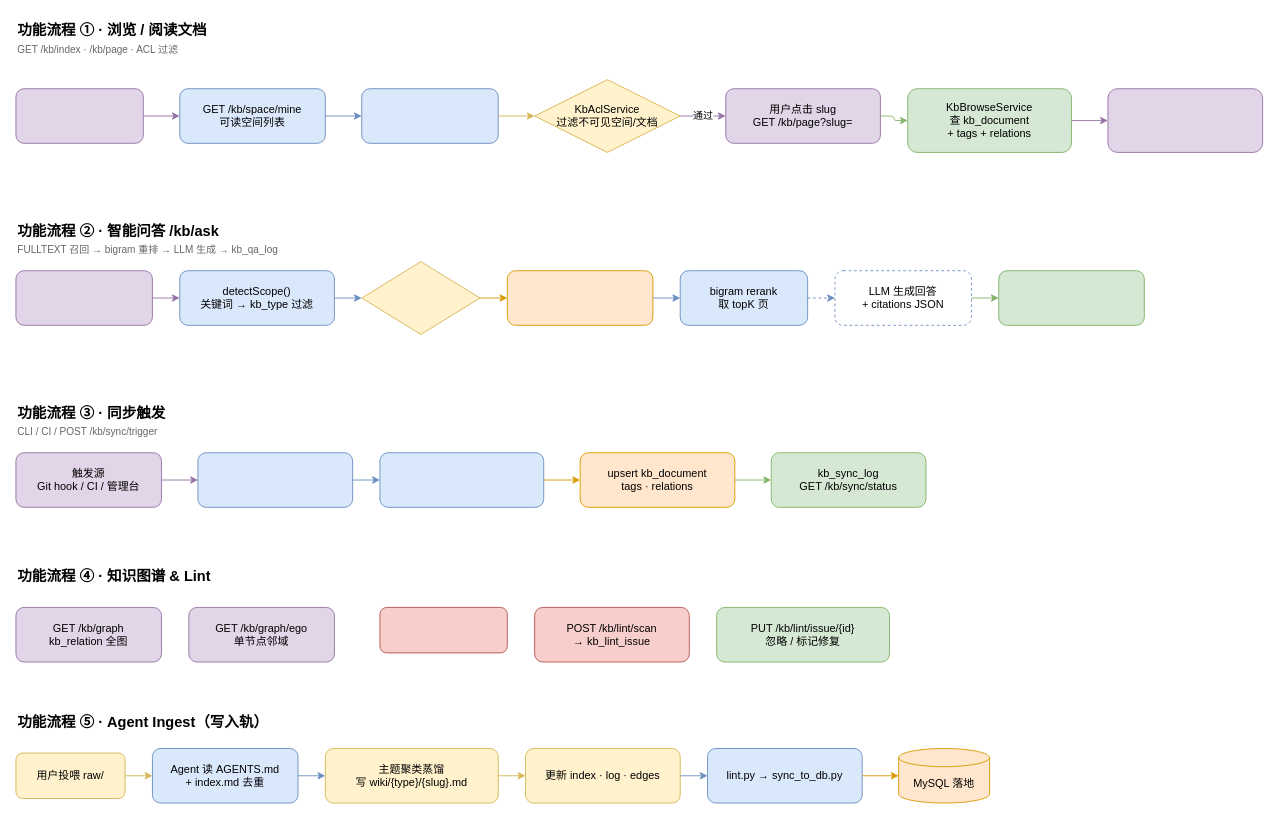
Image size: 1279x819. Some labels were removed from this diagram. The centre of each missing label's shape, as x and y in pixels:
ACL 可读 space_ids: (x=420, y=297)
FULLTEXT 召回 top 100 candidates: (x=579, y=297)
GET /kb/index 目录树 + meta: (x=429, y=115)
lint.py 本地扫描: (x=443, y=630)
PageDetailVo markdown 渲染 outLinks / backLinks: (x=1185, y=120)
POST /kb/ask {question, spaceId}: (x=83, y=297)
POST /kb/sync/trigger KbSyncService: (x=275, y=479)
spawn sync_to_db.py --wiki-dir --space: (x=461, y=479)
写 kb_qa_log 返回 AskResultVo: (x=1071, y=297)
用户选择空间 KbSpaceSelector: (x=79, y=115)
